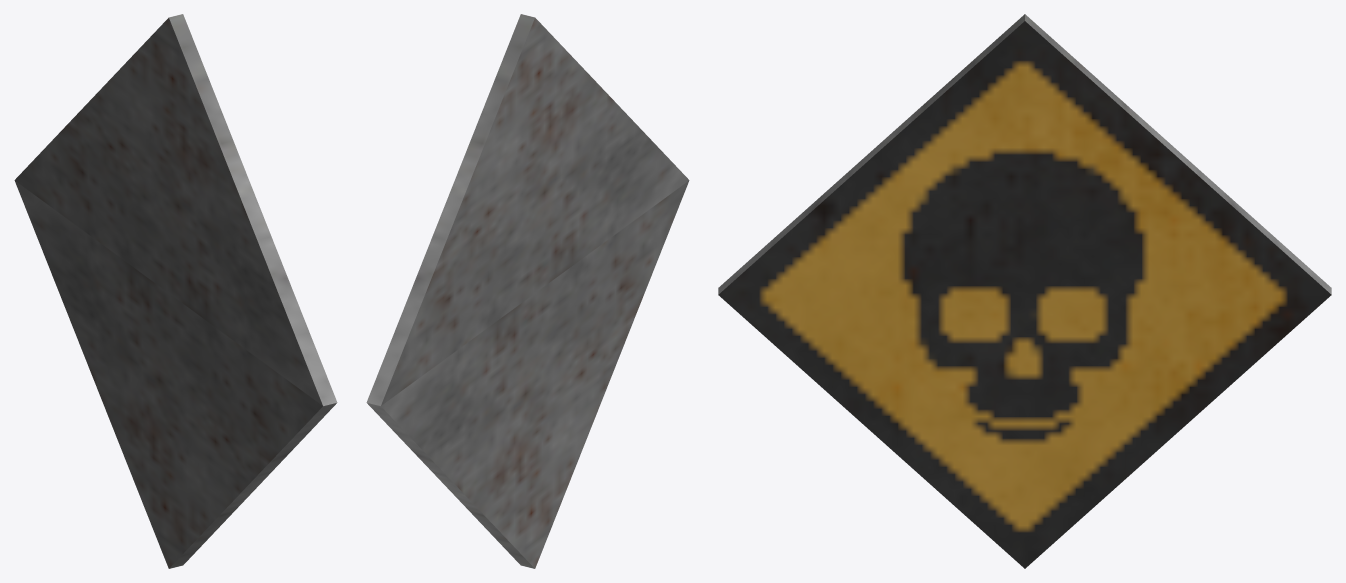
The model's file is Sign_20_Plate.fbx.
3 renders of one model, left to right at view 1: azimuth 30°, elevation 25°; view 2: azimuth 150°, elevation 25°; view 3: azimuth 270°, elevation 25°, orthographic.
Parts seen in each view (by area): view 1: Sign_20_Plate; view 2: Sign_20_Plate; view 3: Sign_20_Plate.
Boxes of the visible parts, bbox=[...] form: Sign_20_Plate: bbox=[14, 14, 337, 568]; Sign_20_Plate: bbox=[366, 14, 689, 568]; Sign_20_Plate: bbox=[718, 14, 1331, 568].
Size of the model in its own units: 1.52 by 55.84 by 56.65.
